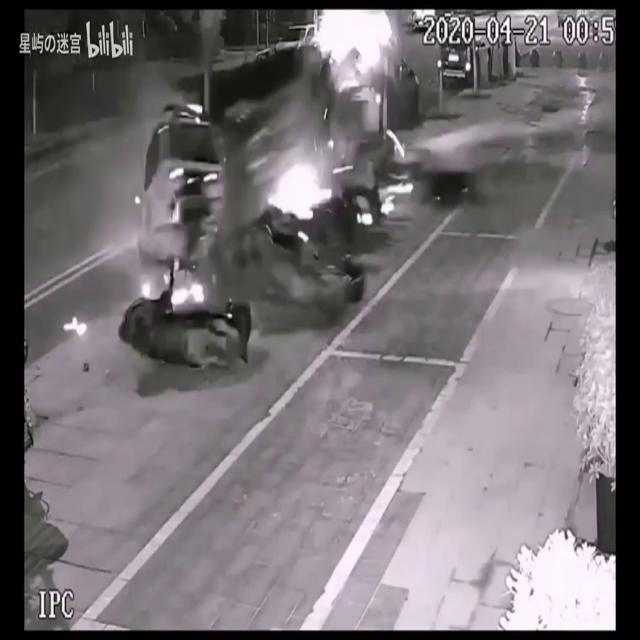accident: (126, 46, 344, 264)
non-accident: (206, 183, 380, 323)
